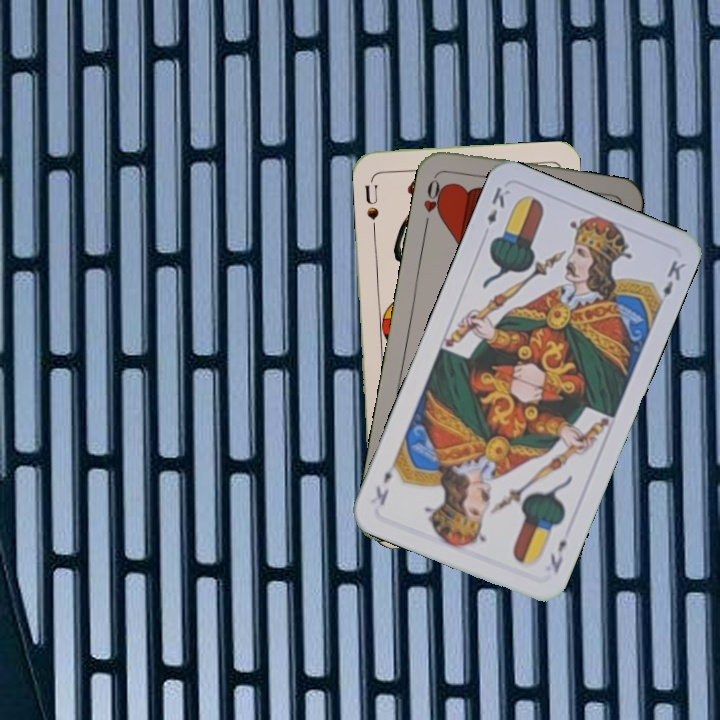EK: (483, 182, 513, 228), (546, 535, 570, 576)
HO: (419, 170, 449, 229)
SU: (361, 174, 381, 233)
